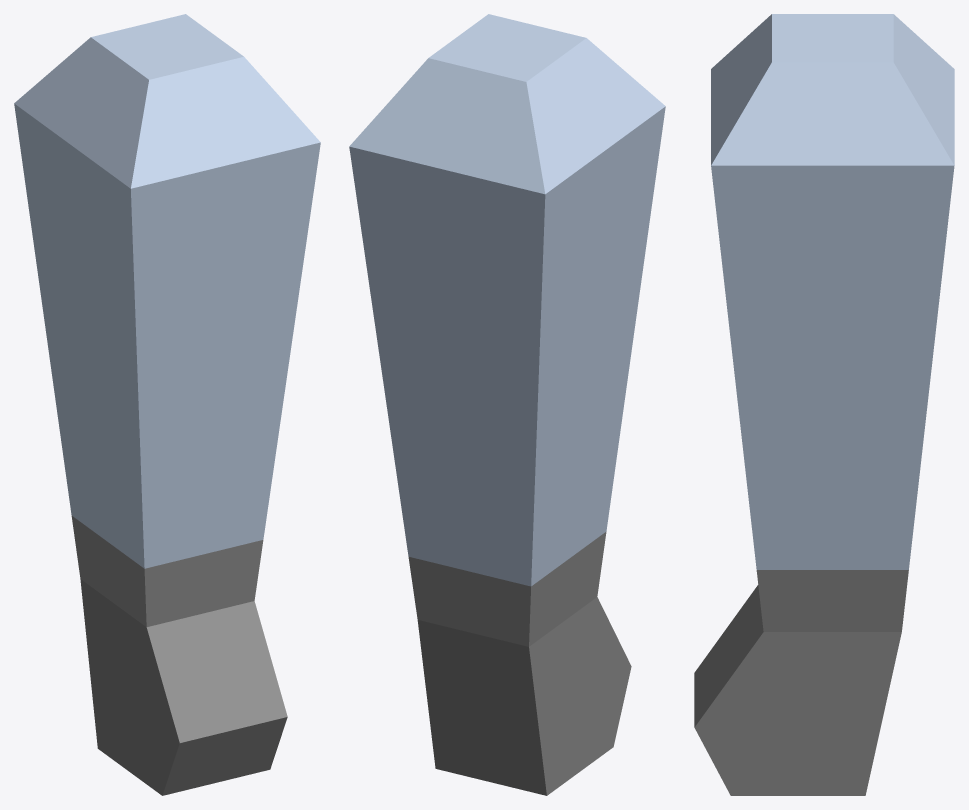
Rendered from GuardLowerArm.fbx.
3 views of the same model, side by side, from view 1: azimuth 30°, elevation 25°; view 2: azimuth 150°, elevation 25°; view 3: azimuth 270°, elevation 25° (orthographic). The views are drawn at different scales.
Parts seen in each view (by area): view 1: GuardLowerArm; view 2: GuardLowerArm; view 3: GuardLowerArm.
Part boxes in pixels (left/top/right/bottom): GuardLowerArm: left=14, top=14, right=320, bottom=795; GuardLowerArm: left=349, top=14, right=665, bottom=795; GuardLowerArm: left=694, top=14, right=954, bottom=795.
Bounding box in the file's own units: 0.1568 × 0.552 × 0.1781.
